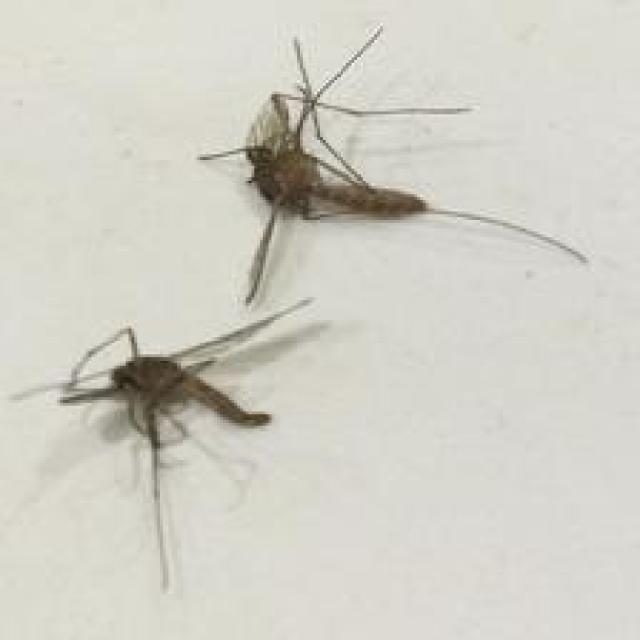Culex: (9, 296, 317, 596)
